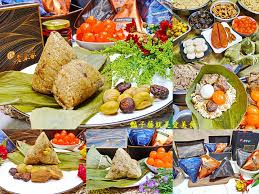zongzi: (32, 32, 103, 109), (24, 132, 59, 164), (107, 148, 141, 178)
